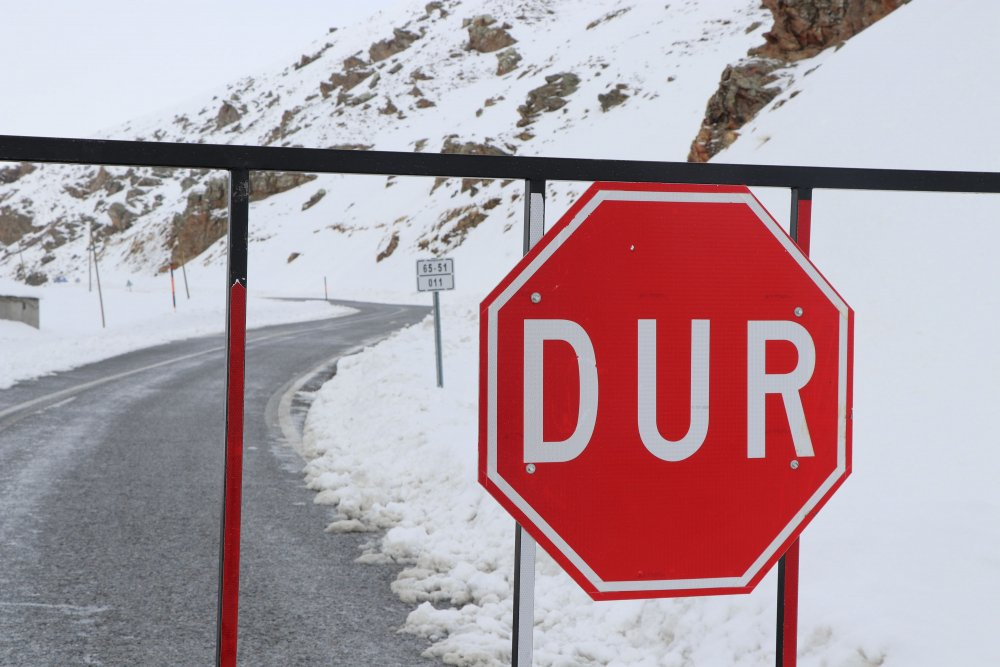dur: (482, 180, 854, 596)
